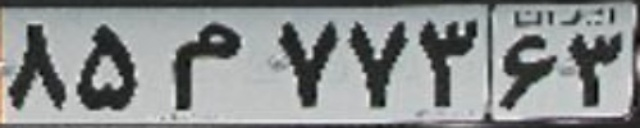3: (418, 16, 478, 107), (566, 30, 622, 108)
5: (73, 22, 144, 110)
6: (493, 32, 558, 110)
7: (275, 18, 343, 108), (348, 16, 408, 109)
8: (3, 22, 65, 110)
mim: (168, 19, 245, 111)
